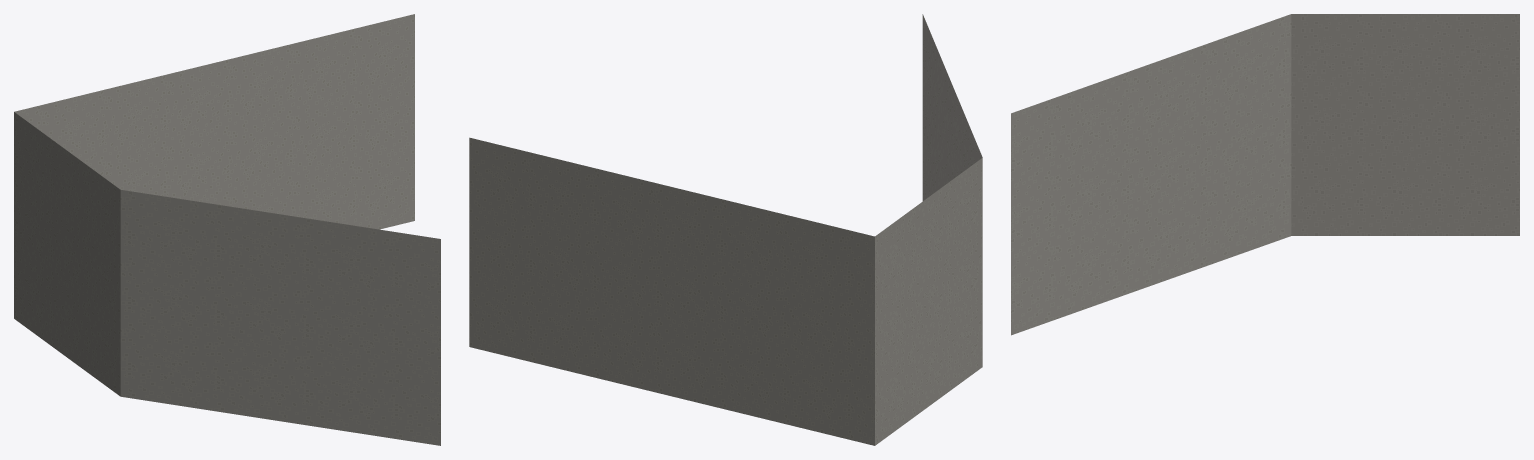
Rendered from kd_stage_135c43_3_3_bounded.glb.
3 renders of one model, left to right at view 1: azimuth 30°, elevation 25°; view 2: azimuth 150°, elevation 25°; view 3: azimuth 270°, elevation 25°, orthographic. The views are drawn at different scales.
Visible parts, largest first — view 1: kd_stage_135c43_3_3_bounded; view 2: kd_stage_135c43_3_3_bounded; view 3: kd_stage_135c43_3_3_bounded.
Part boxes in pixels (x1,y1,x2,y2): kd_stage_135c43_3_3_bounded: (14, 14, 440, 445); kd_stage_135c43_3_3_bounded: (469, 14, 982, 445); kd_stage_135c43_3_3_bounded: (1011, 14, 1519, 335).
Size of the model in its own units: 0.65 by 0.3207 by 0.6659.
Materials: 1 (1 with a texture image).
